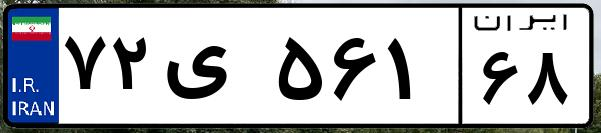1: (385, 28, 445, 110)
2: (110, 28, 158, 98)
5: (270, 28, 330, 110)
6: (330, 28, 385, 110), (475, 38, 525, 113)
7: (57, 26, 110, 100)
8: (525, 38, 570, 115)
ی: (158, 20, 270, 120)
